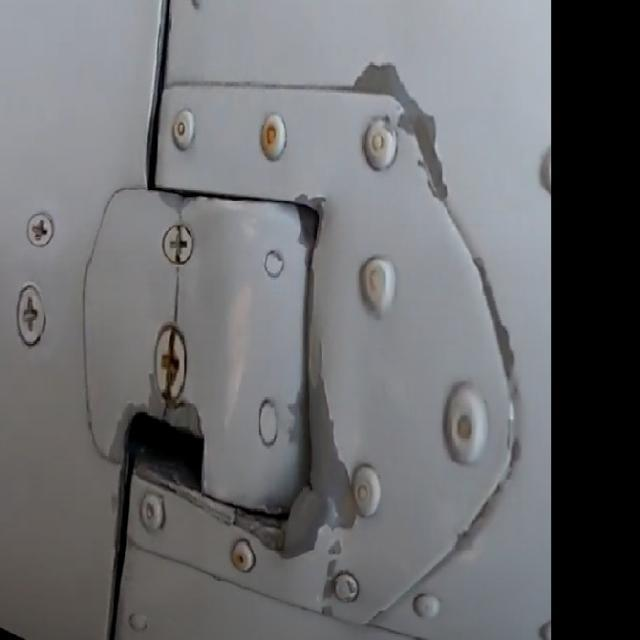crack: (167, 270, 194, 324)
